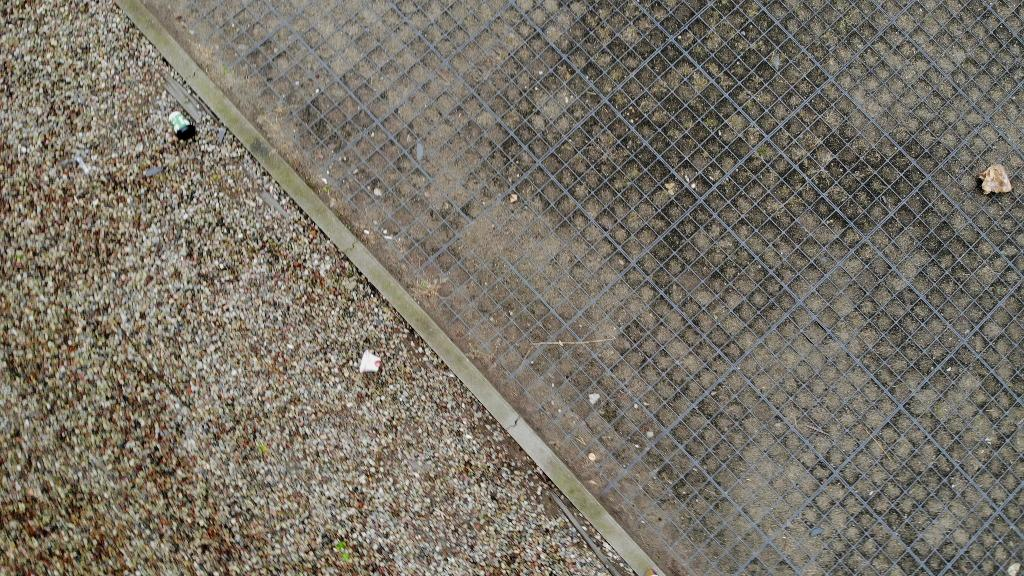garbage: (977, 163, 1014, 196), (165, 111, 198, 143), (357, 350, 383, 377)
